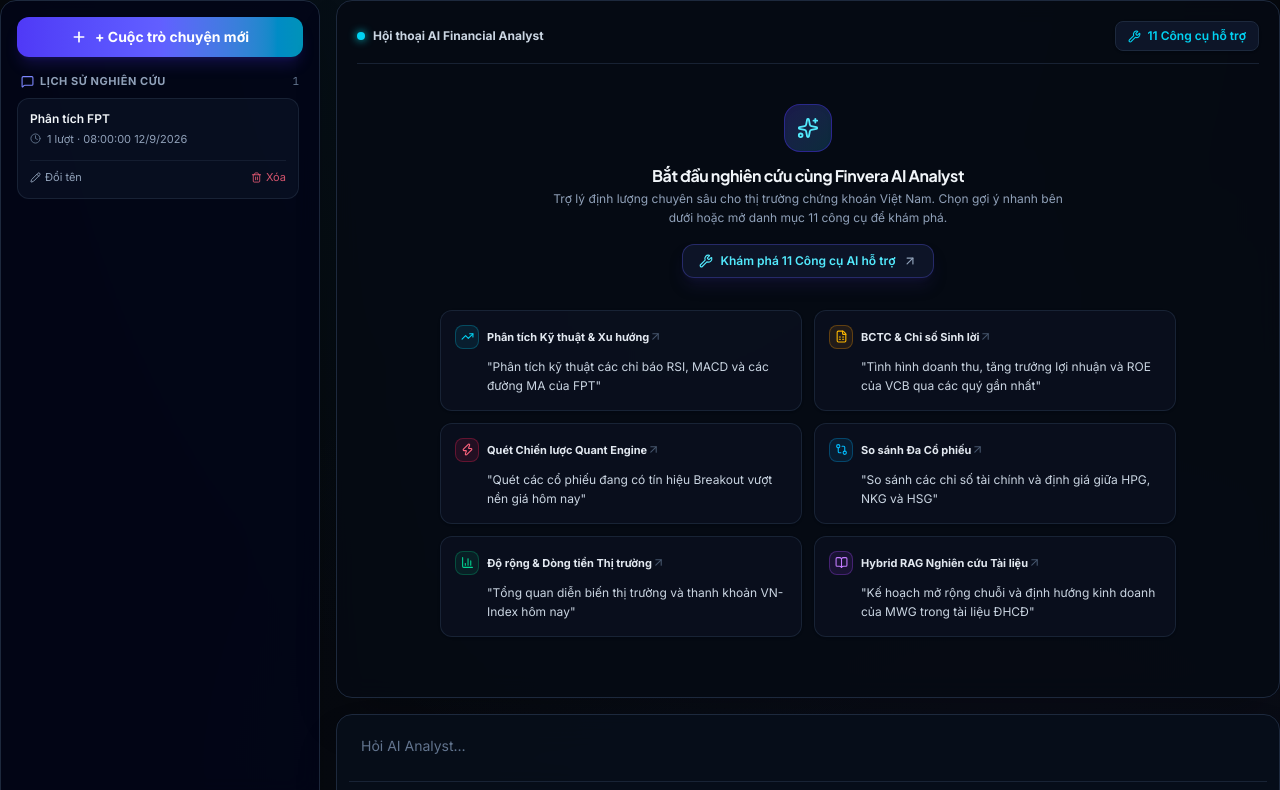
it: AI conversation history › prepends an older page once and keeps chronological order
Click the text "Phân tích FPT": point(70, 118) top-left (30, 110), bottom-right (110, 126)
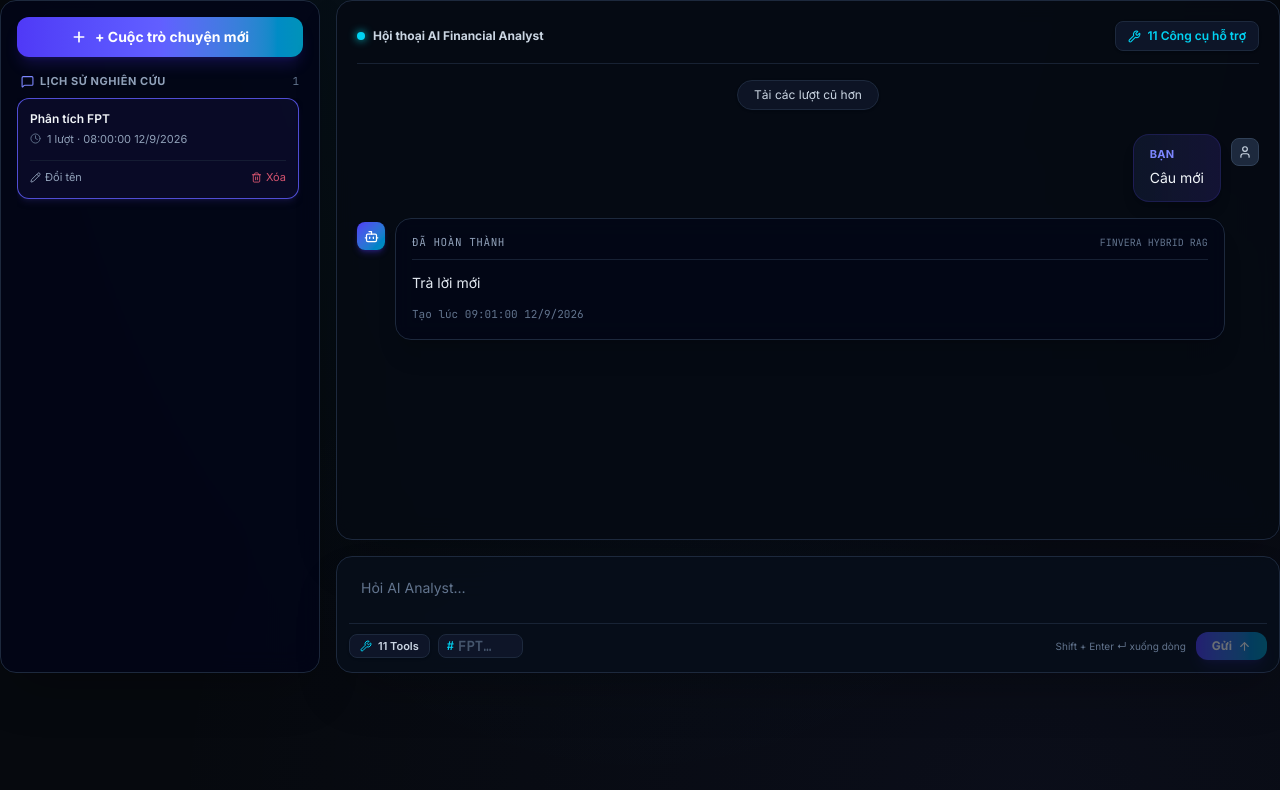
Click the button "Tải các lượt cũ hơn": point(808, 95) top-left (737, 80), bottom-right (879, 110)
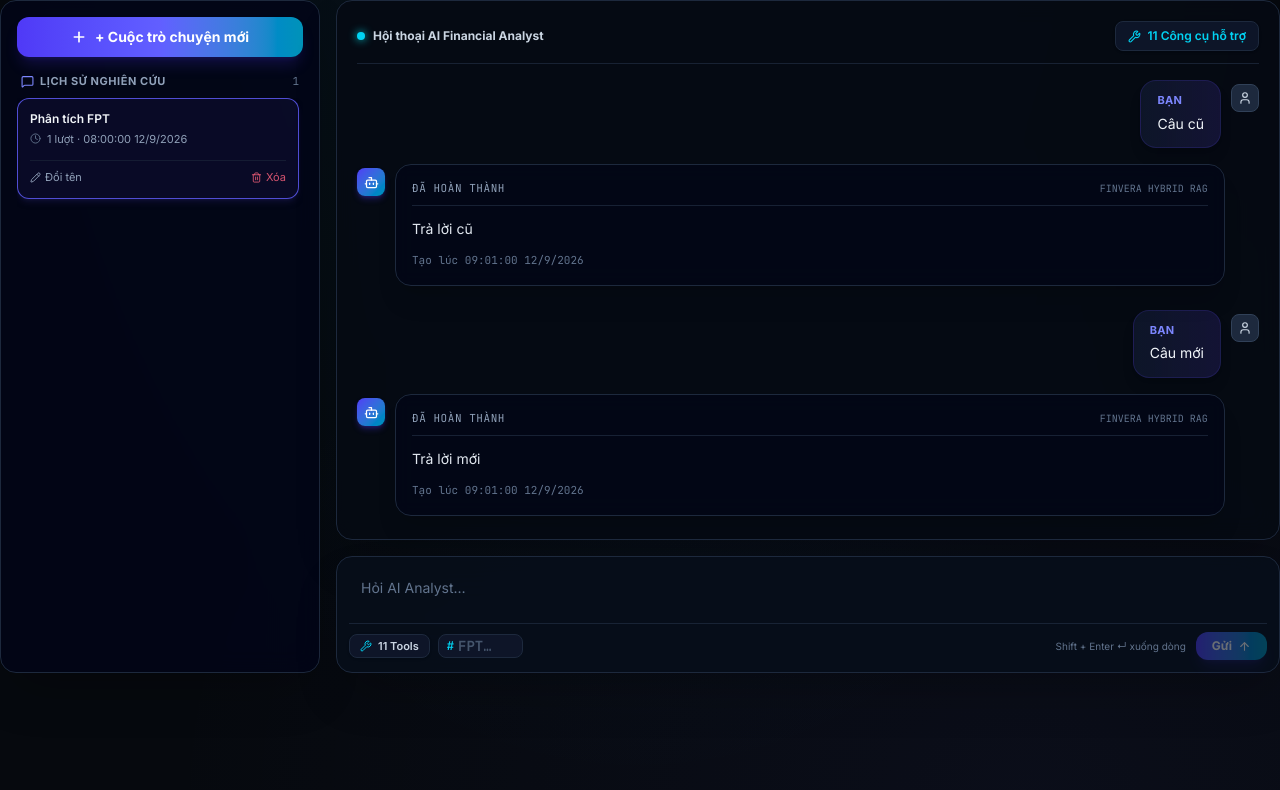
expect the text "Trả lời cũ" is shown: met, box top-left (412, 220), bottom-right (473, 237)
